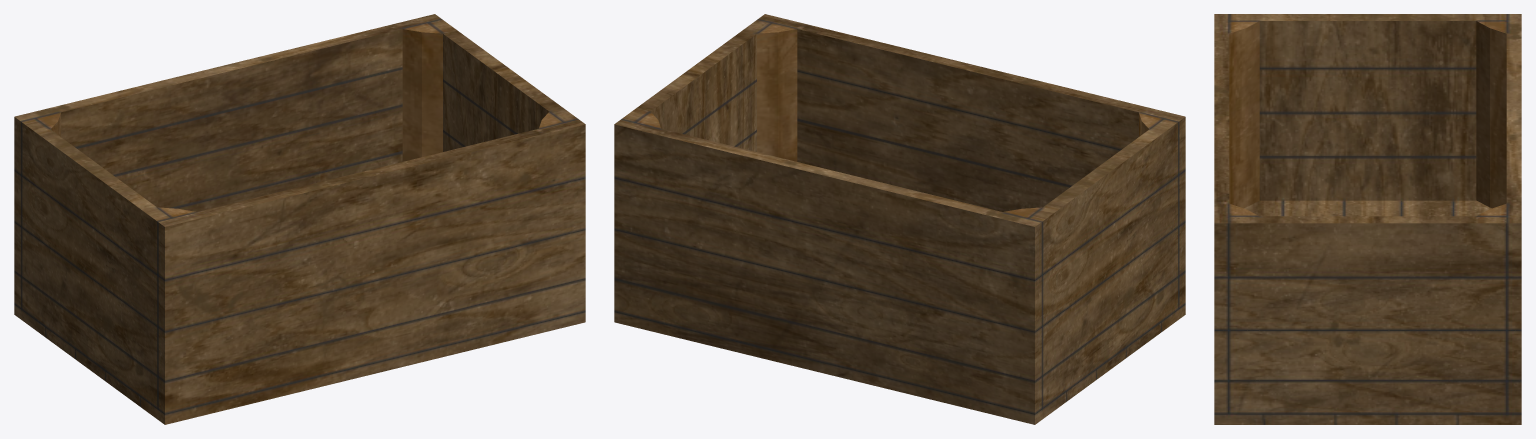
The model's file is crate.gltf.
3 views of the same model, side by side, from view 1: azimuth 30°, elevation 25°; view 2: azimuth 150°, elevation 25°; view 3: azimuth 270°, elevation 25° (orthographic).
Parts seen in each view (by area): view 1: pCube18 (×2); view 2: pCube18 (×2); view 3: pCube18 (×2).
Boxes of the visible parts, x1,y1,x2,y2 form: pCube18 (×2): (14,14,585,424); pCube18 (×2): (614,14,1185,424); pCube18 (×2): (1214,14,1521,424).
Size of the model in its own units: 2 by 0.8989 by 1.24.
Materials: 2 (2 with a texture image).
